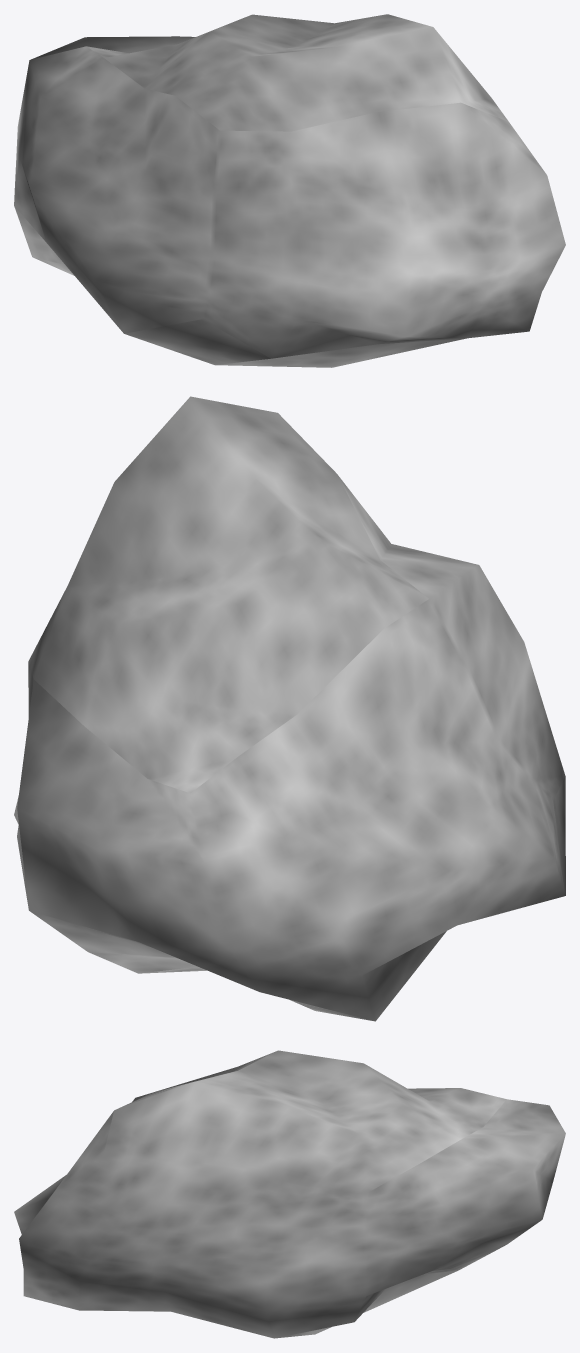
The model's file is rock1.glb.
3 views of the same model, one above another, from view 1: azimuth 30°, elevation 25°; view 2: azimuth 150°, elevation 25°; view 3: azimuth 270°, elevation 25° (orthographic). The views are drawn at different scales.
Parts seen in each view (by area): view 1: Rock.001; view 2: Rock.001; view 3: Rock.001.
Part boxes in pixels (bbox=[...]): Rock.001: bbox=[14, 14, 565, 367]; Rock.001: bbox=[14, 396, 565, 1021]; Rock.001: bbox=[14, 1050, 565, 1338].
Size of the model in its own units: 1.73 by 1.39 by 2.6.
1 material, 1 textured.
